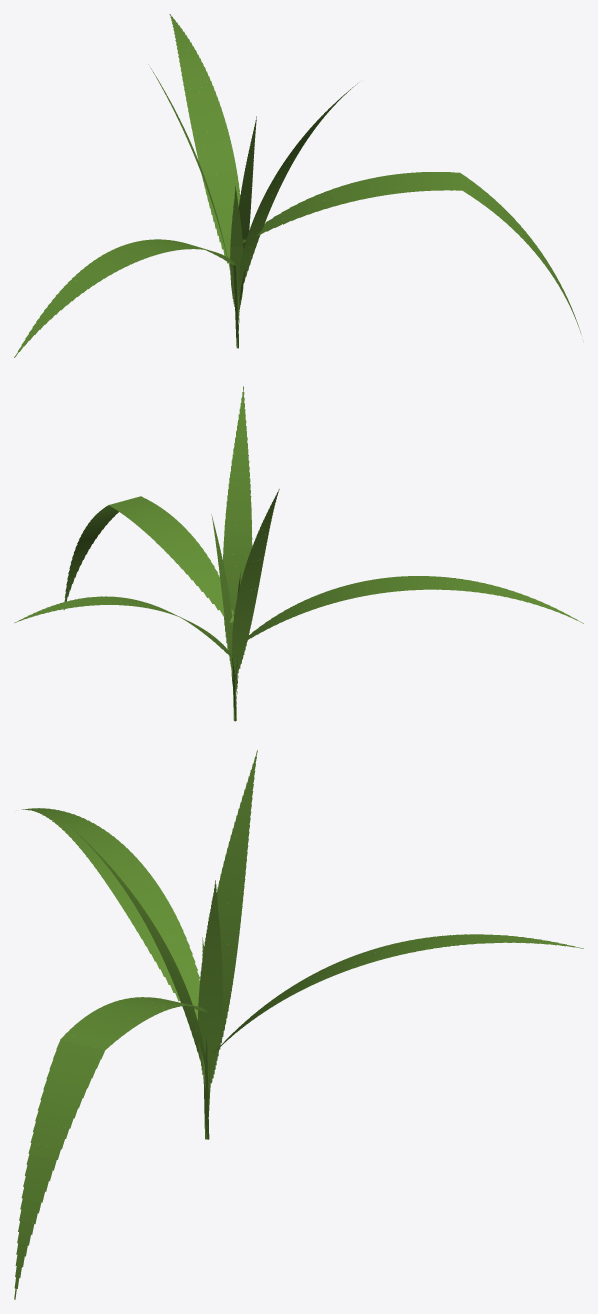
The model's file is maize_003_day_060.dae.
3 views of the same model, one above another, from view 1: azimuth 30°, elevation 25°; view 2: azimuth 150°, elevation 25°; view 3: azimuth 270°, elevation 25° (orthographic). The views are drawn at different scales.
Parts seen in each view (by area): view 1: node; view 2: node; view 3: node.
Boxes of the visible parts, left/top/right/bottom form: node: left=14, top=14, right=581, bottom=357; node: left=14, top=386, right=583, bottom=721; node: left=14, top=750, right=583, bottom=1299.
Bounding box in the file's own units: 0.7137 × 0.3651 × 0.5089.
1 material, 1 textured.
